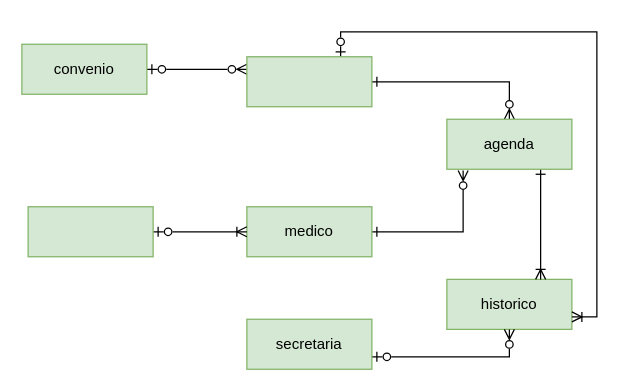
Image size: 630x391. Some labels were removed from this diagram. The shapes that lost their labels are listed below. From the top down, each one's centre as x and y in pixels, then its label:
At point (309, 81): "paciente".
At point (90, 231): "especialidades".
